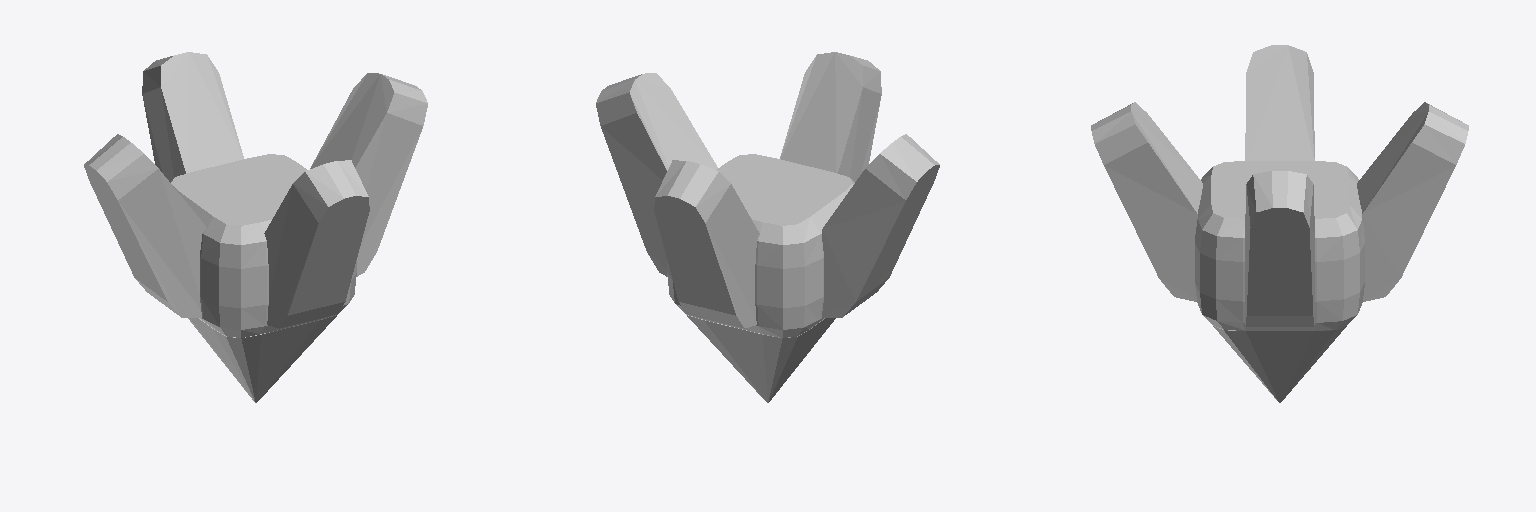
File: FSI_Term_Anchor_Hook.obj
The picture shows the model from 3 angles: view 1: azimuth 30°, elevation 25°; view 2: azimuth 150°, elevation 25°; view 3: azimuth 270°, elevation 25°; orthographic projection.
Visible parts, largest first — view 1: m_GSO_Base_Rotating_Stand_111.001; view 2: m_GSO_Base_Rotating_Stand_111.001; view 3: m_GSO_Base_Rotating_Stand_111.001.
Part boxes in pixels (x1,y1,x2,y2): m_GSO_Base_Rotating_Stand_111.001: (84, 52, 427, 402); m_GSO_Base_Rotating_Stand_111.001: (596, 52, 939, 402); m_GSO_Base_Rotating_Stand_111.001: (1091, 45, 1468, 402).
Size of the model in its own units: 1.98 by 1.72 by 1.98.